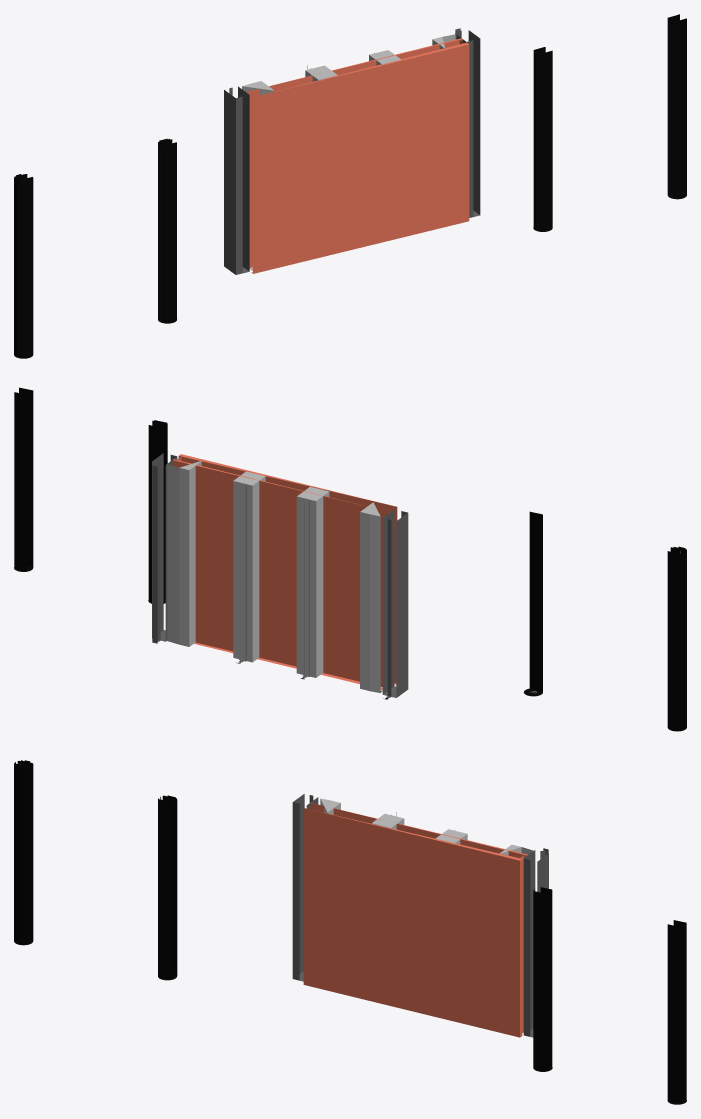
The model's file is BRBTB.glb.
3 renders of one model, top to bottom at view 1: azimuth 30°, elevation 25°; view 2: azimuth 150°, elevation 25°; view 3: azimuth 330°, elevation 25°, orthographic.
Parts seen in each view (by area): view 1: Curve, Curve.041, Curve.029, Curve.027, Curve.039, Curve.001, Curve.008, Curve.002, Curve.007; view 2: Curve, Curve.004, Curve.006, Curve.005, Curve.003, Curve.041, Curve.027, Curve.039, Curve.001, Curve.002, Curve.029, Curve.023 (+4 smaller); view 3: Curve, Curve.041, Curve.039, Curve.029, Curve.027, Curve.001, Curve.007.
Part boxes in pixels (x1,y1,x2,y2): Curve: [245, 38, 469, 273]; Curve.041: [14, 174, 33, 358]; Curve.029: [533, 47, 552, 231]; Curve.027: [667, 14, 686, 199]; Curve.039: [158, 138, 176, 323]; Curve.001: [224, 90, 242, 274]; Curve.008: [468, 30, 480, 216]; Curve.002: [238, 86, 249, 273]; Curve.007: [455, 33, 473, 217]; Curve: [172, 454, 397, 689]; Curve.004: [296, 487, 329, 677]; Curve.006: [167, 461, 201, 646]; Curve.005: [233, 471, 265, 662]; Curve.003: [360, 502, 395, 693]; Curve.041: [667, 546, 686, 731]; Curve.027: [14, 387, 33, 571]; Curve.039: [523, 511, 542, 696]; Curve.001: [391, 511, 408, 697]; Curve.002: [382, 509, 396, 695]; Curve.029: [148, 420, 167, 603]; Curve.023: [152, 465, 157, 643]; Curve: [303, 802, 527, 1037]; Curve.041: [14, 760, 33, 945]; Curve.039: [158, 795, 177, 980]; Curve.029: [533, 887, 552, 1071]; Curve.027: [667, 920, 686, 1104]; Curve.001: [292, 794, 304, 980]; Curve.007: [523, 850, 535, 1036].
Bounding box in the file's own units: 0.9971 × 0.2514 × 0.1265.
